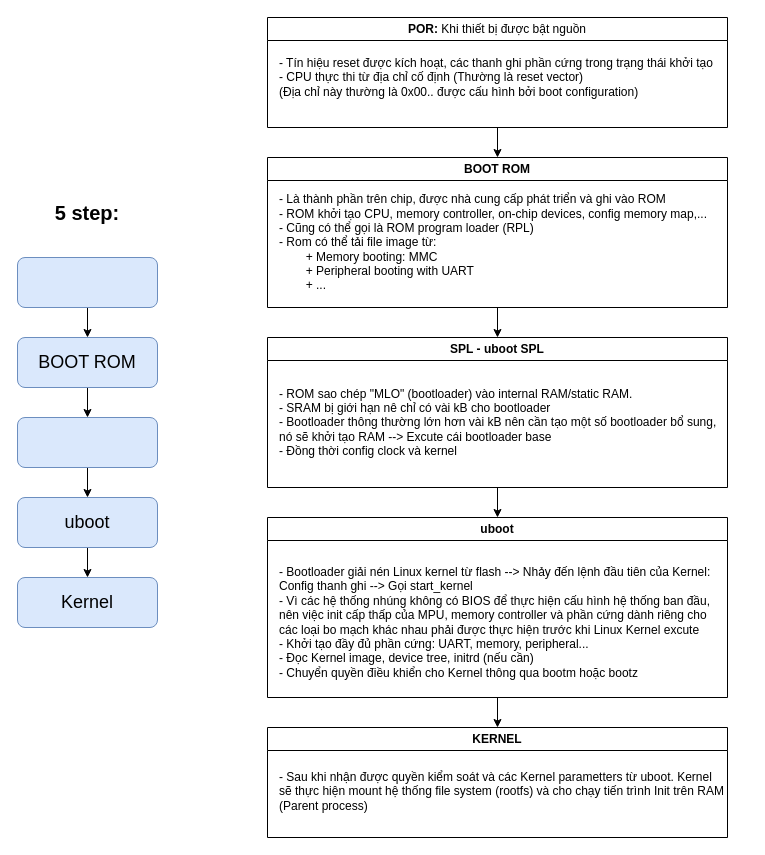
This 765x855 diagram has some shape labels left out. The centre of each missing label's shape, as x and y in pixels:
Power-on Reset: the point at 87,282
SPL: the point at 87,442
